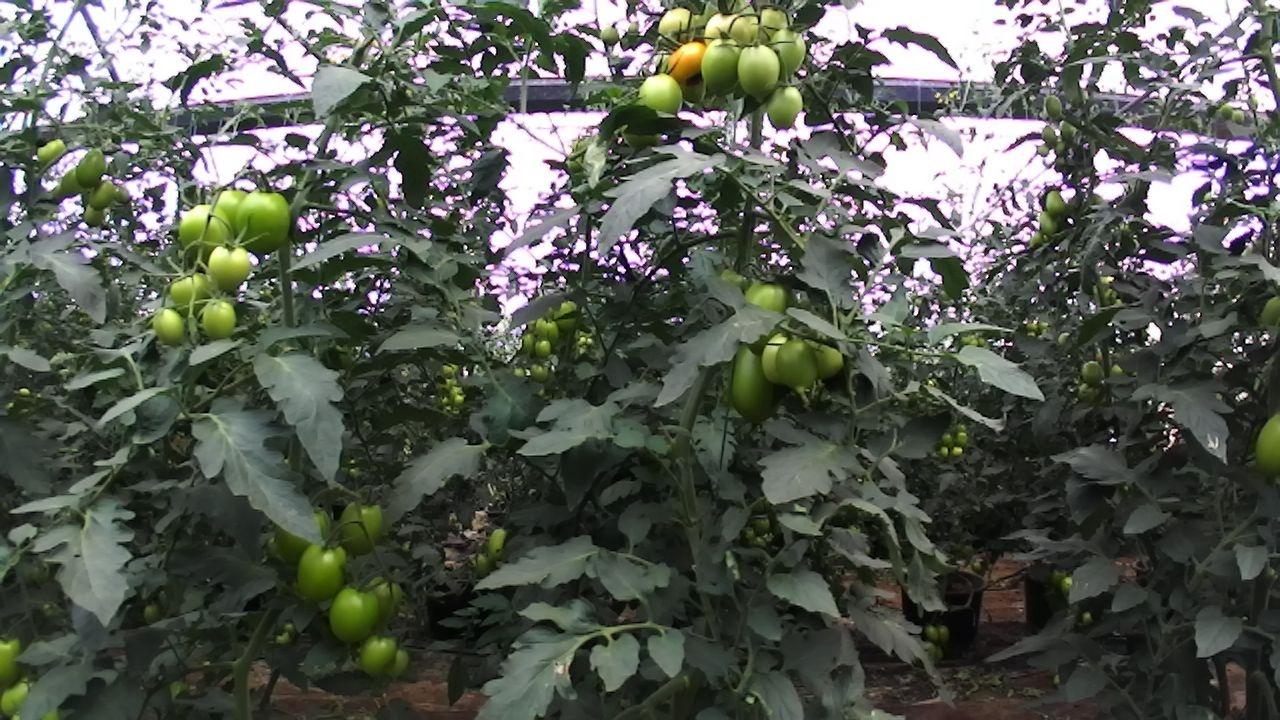tomato: (721, 330, 783, 430), (734, 262, 795, 361), (288, 532, 360, 609), (229, 181, 298, 261), (170, 199, 241, 274), (324, 575, 389, 654), (692, 32, 750, 97), (331, 491, 387, 557), (734, 37, 787, 106), (772, 333, 827, 399), (201, 237, 260, 298), (204, 183, 259, 248), (699, 5, 758, 61), (765, 18, 814, 85), (634, 67, 695, 118), (352, 629, 405, 686), (164, 263, 214, 323), (362, 570, 410, 629), (751, 1, 804, 53), (761, 79, 810, 135), (195, 293, 243, 345), (662, 39, 715, 85), (650, 3, 701, 50), (149, 304, 192, 350), (73, 144, 110, 190), (84, 176, 121, 213), (383, 643, 414, 683), (56, 162, 89, 199), (482, 524, 513, 559), (1076, 358, 1111, 389), (1040, 186, 1071, 221), (531, 313, 562, 347), (35, 135, 69, 164), (1035, 207, 1062, 239), (81, 199, 108, 229), (596, 20, 623, 50), (1041, 92, 1068, 121), (526, 359, 553, 385), (517, 329, 540, 356), (1055, 117, 1080, 141), (530, 336, 554, 361), (932, 620, 954, 646), (1038, 124, 1060, 147), (921, 622, 941, 644), (1228, 107, 1248, 126), (1217, 102, 1236, 121)
